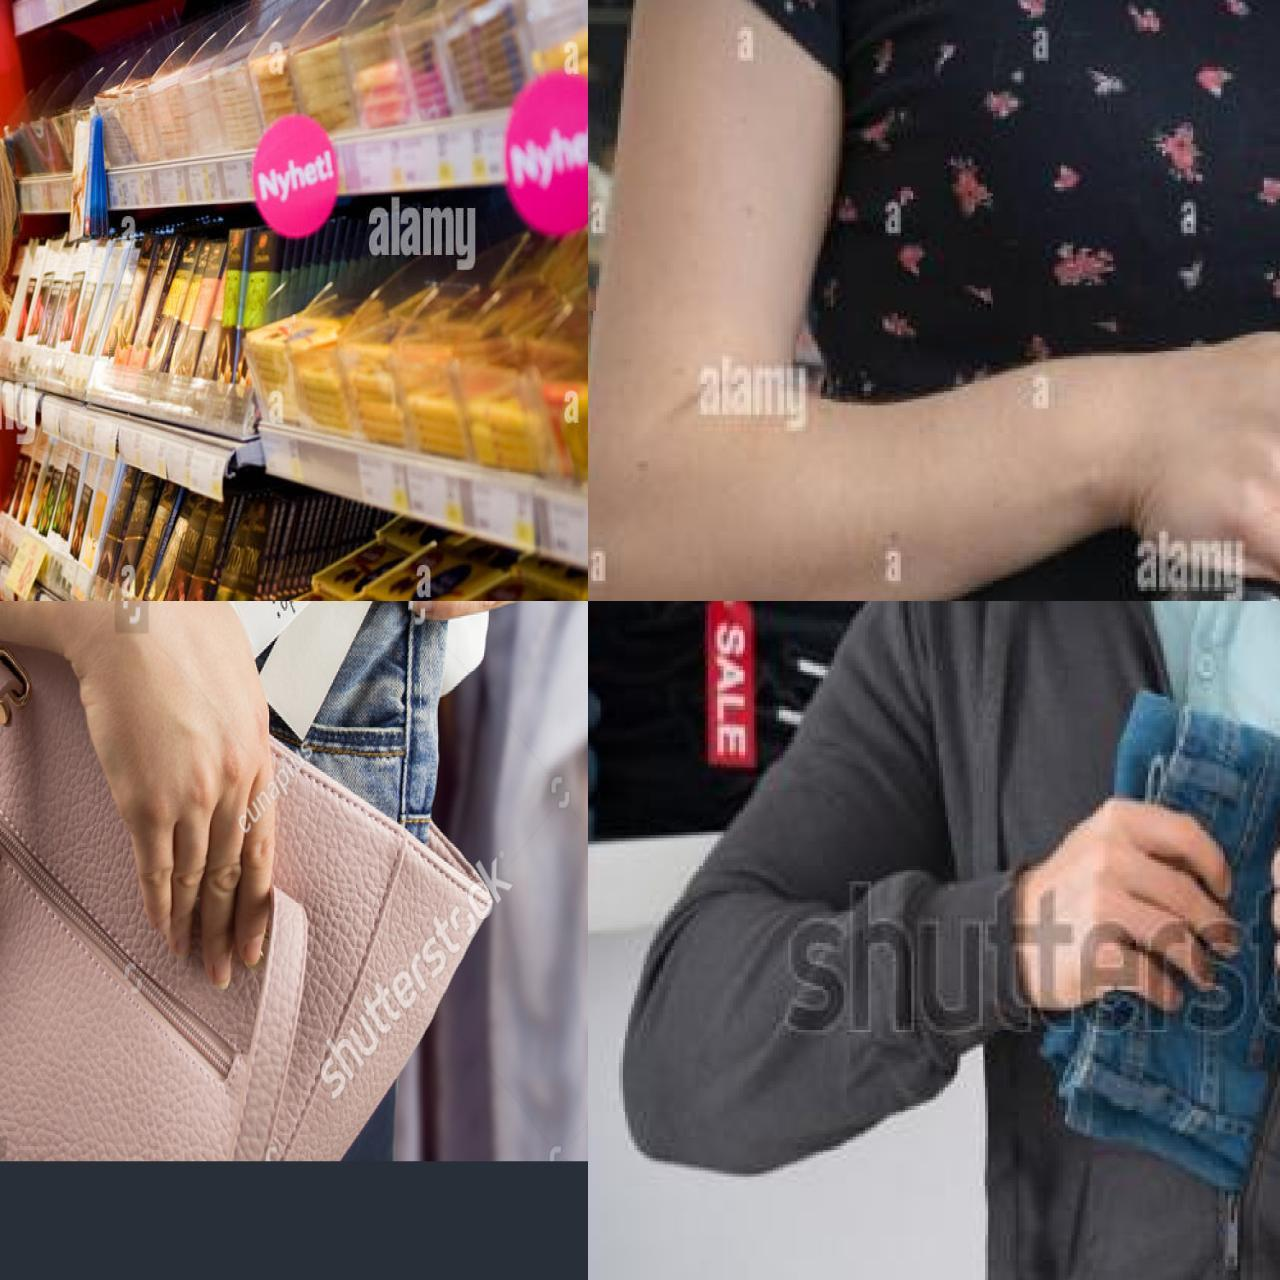Shoplifting: (0, 601, 588, 1156), (842, 40, 1280, 601), (995, 669, 1280, 1280)
